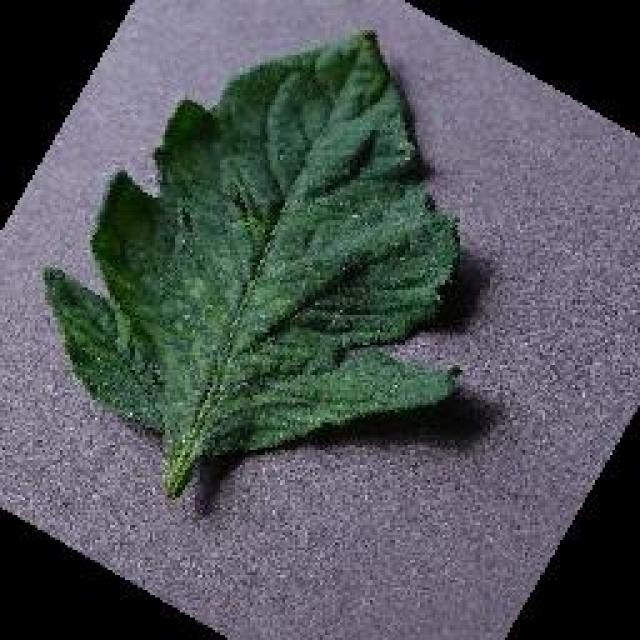Tomato___Tomato_mosaic_virus: (42, 32, 458, 495)
